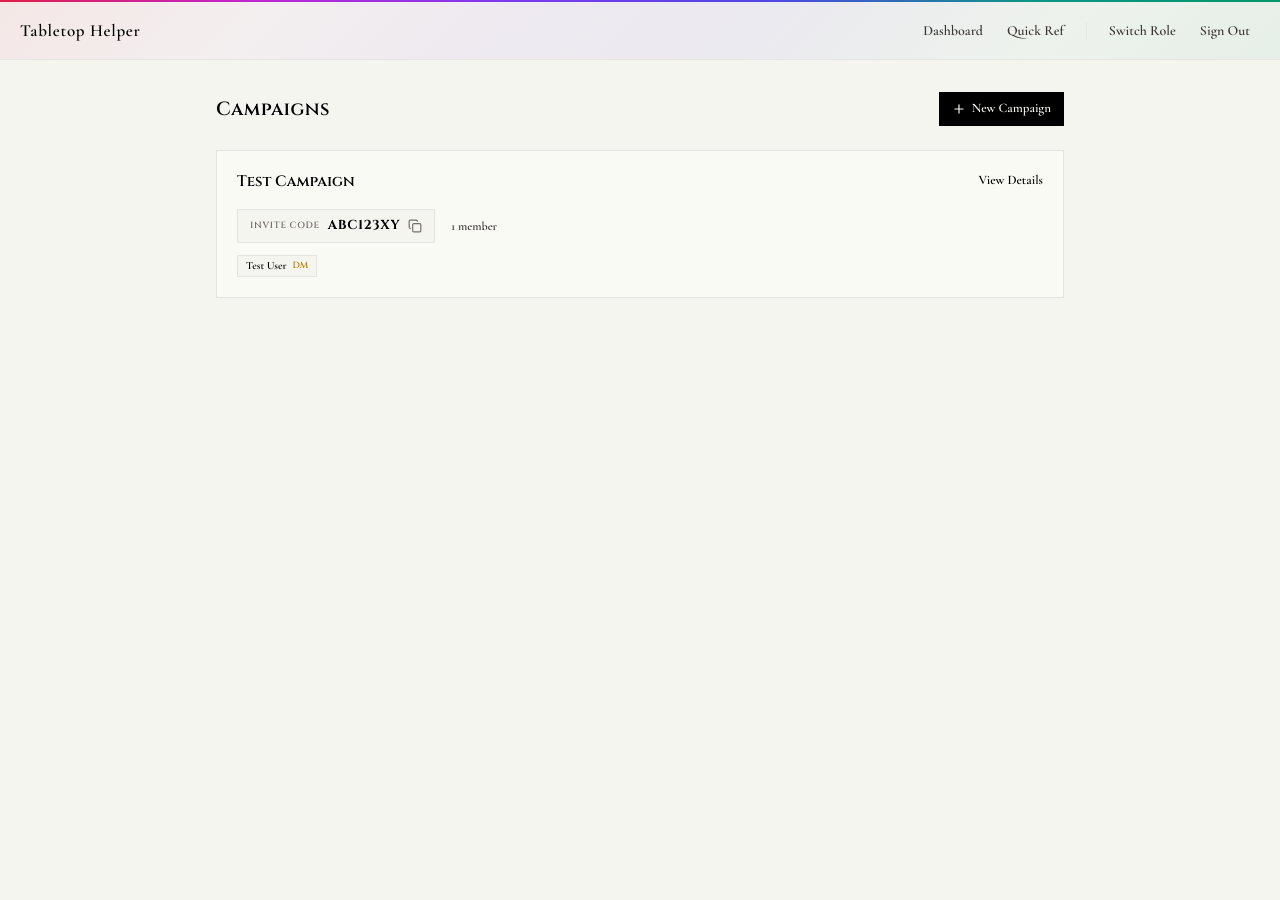
CampaignManagePage › hides create form on Cancel
Click the button "New Campaign".
click(1001, 109)  # box [939,92,1064,126]
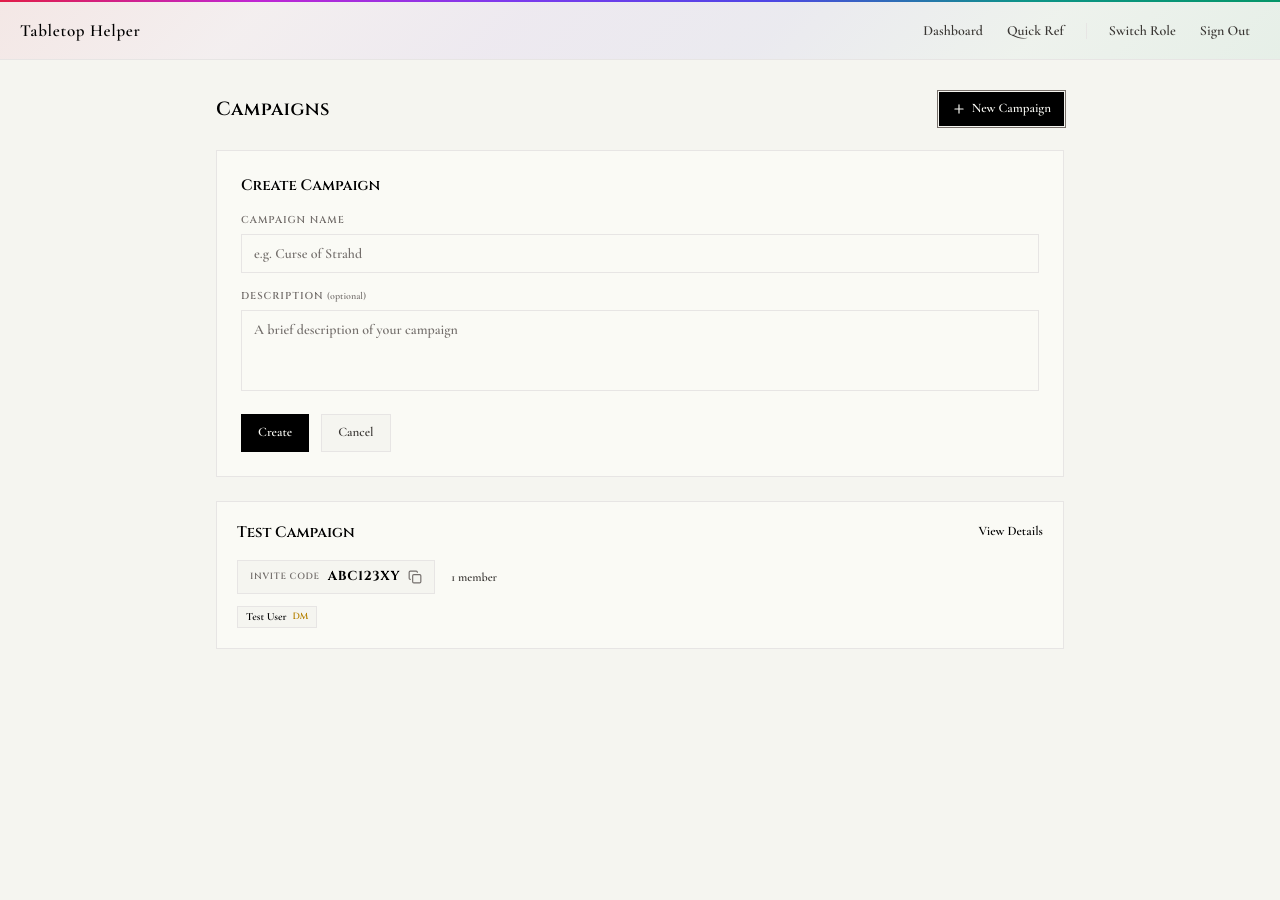
Result: the heading "Create Campaign" is shown at [241,174,380,196]
Click the button "Cancel".
click(356, 433)  # box [321,414,391,452]
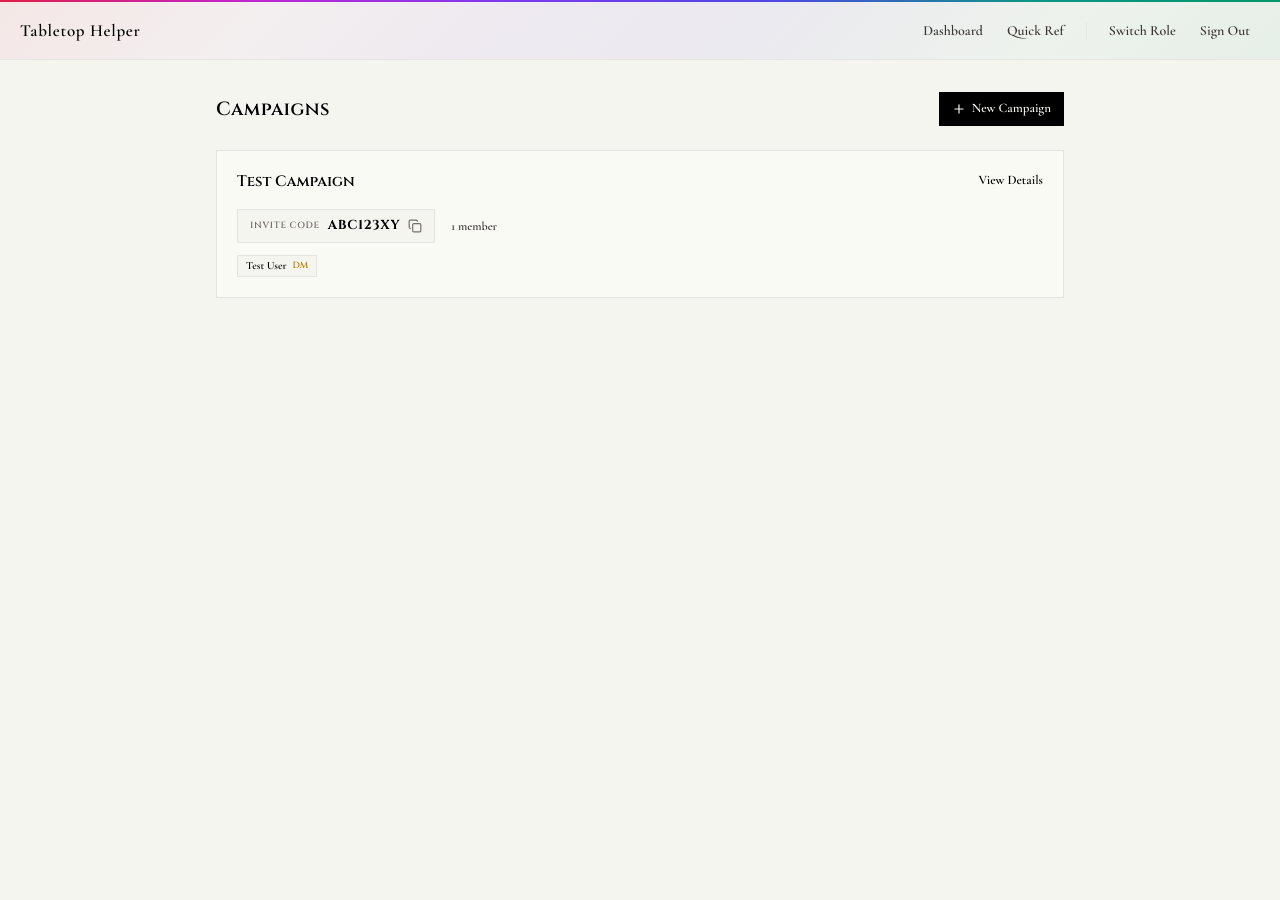
Result: the heading "Create Campaign" is gone
